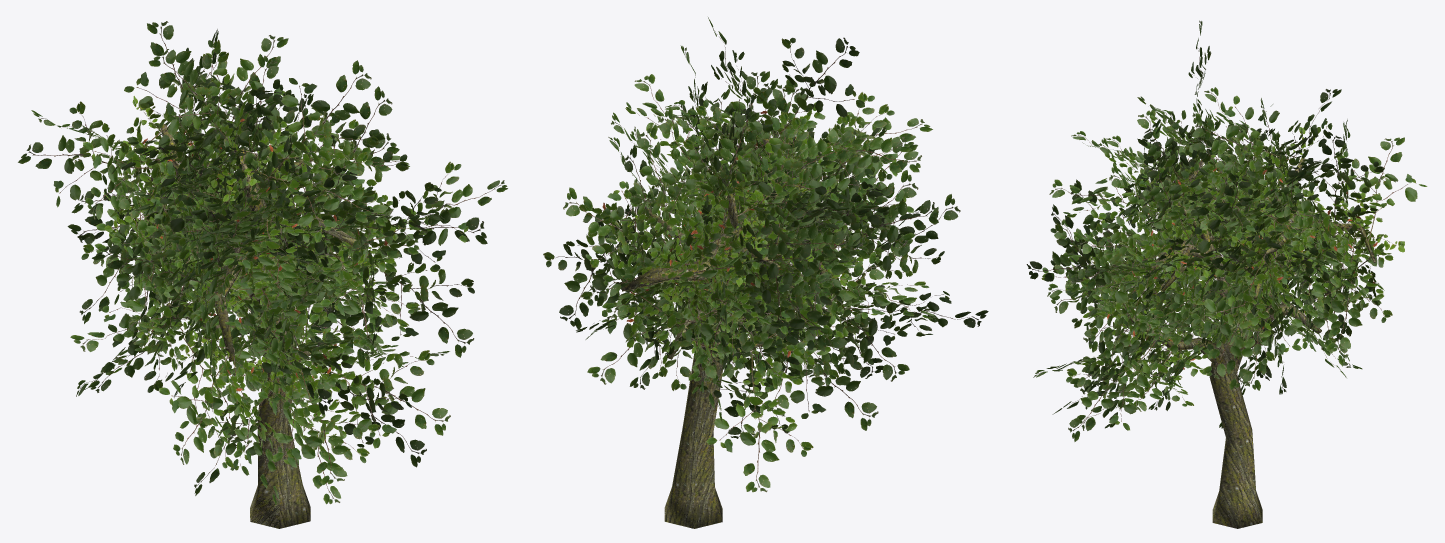
3 views of the same model, side by side, from view 1: azimuth 30°, elevation 25°; view 2: azimuth 150°, elevation 25°; view 3: azimuth 270°, elevation 25° (orthographic). The views are drawn at different scales.
Visible parts, largest first — view 1: Object_3, Object_2; view 2: Object_3, Object_2; view 3: Object_3, Object_2.
Boxes of the visible parts, box(x1,y1,x2,y2) form: Object_3: box(18, 21, 507, 505); Object_2: box(149, 123, 360, 528); Object_3: box(543, 17, 988, 492); Object_2: box(622, 138, 832, 528); Object_3: box(1026, 20, 1427, 441); Object_2: box(1127, 158, 1376, 528).
Size of the model in its own units: 5.35 by 7.02 by 5.86.
2 materials, 2 textured.
